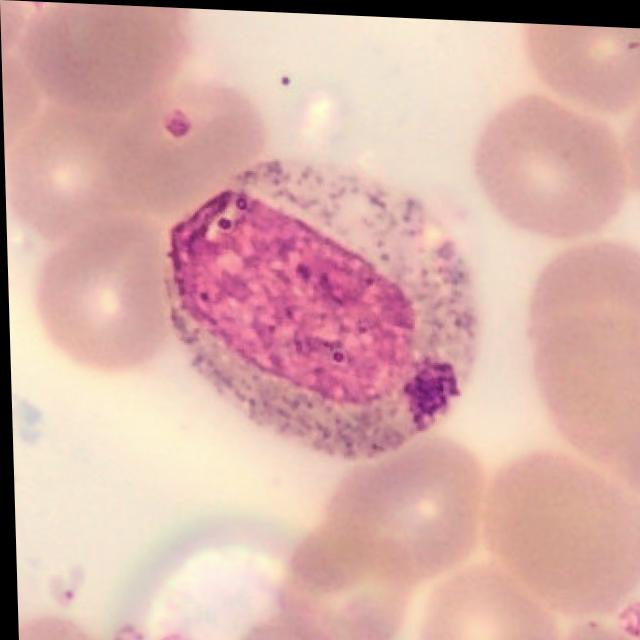Mielocito: (166, 156, 479, 457)
